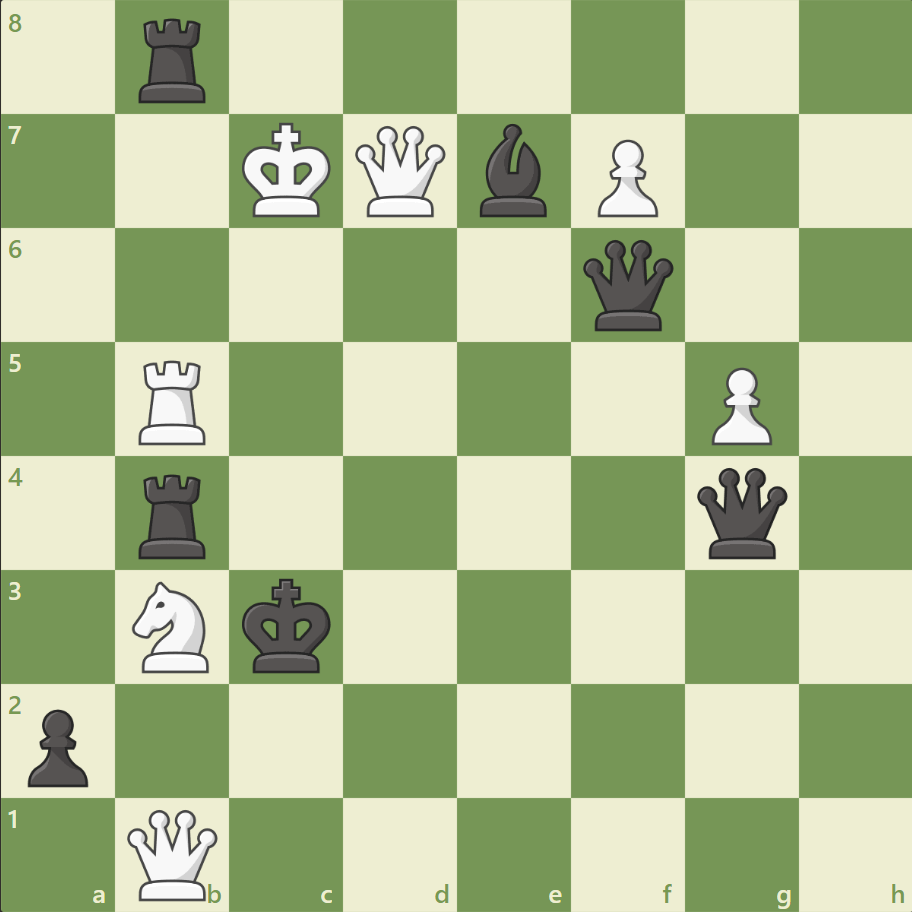K: (238, 117, 338, 225)
N: (124, 575, 222, 677)
P: (701, 359, 776, 450), (588, 132, 662, 223)
Q: (351, 122, 450, 222), (124, 804, 223, 903)
R: (133, 352, 215, 449)
b: (471, 120, 555, 222)
k: (238, 571, 338, 679)
p: (20, 700, 95, 791)
q: (578, 236, 677, 335), (691, 463, 790, 562)
r: (133, 12, 215, 109), (133, 466, 215, 563)
